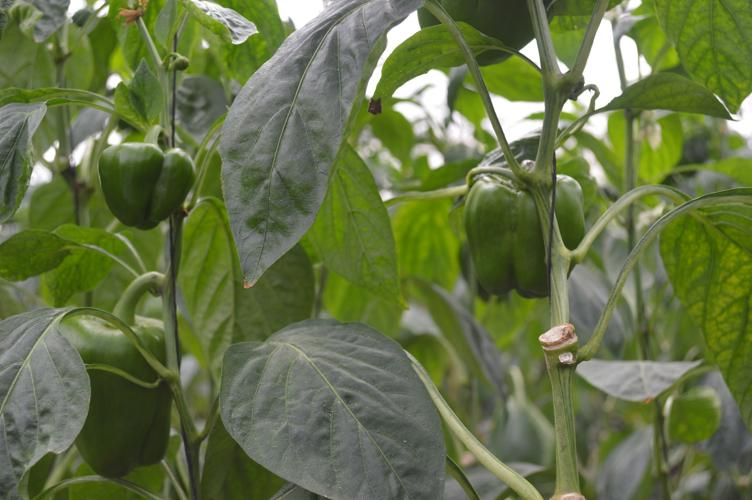BellPepper: (57, 310, 172, 473), (457, 172, 590, 305), (95, 142, 191, 234)
